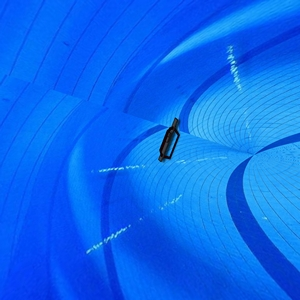submarine: (153, 114, 182, 162)
